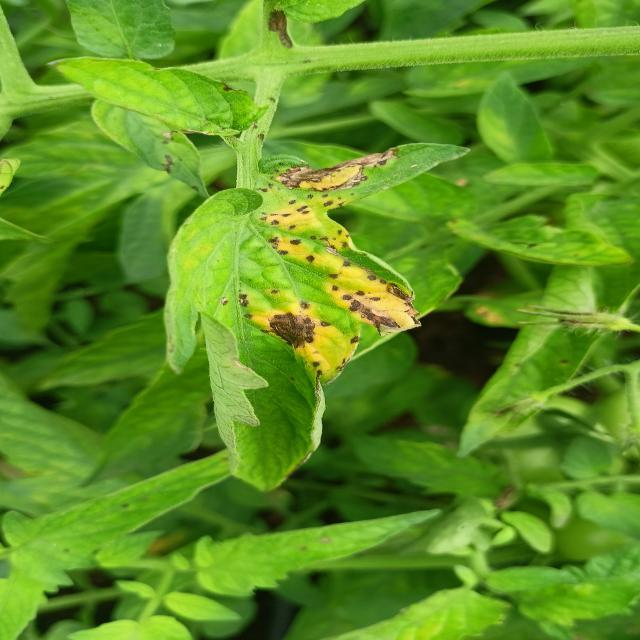Tomato mosaic virus leaf: (150, 181, 432, 494), (259, 139, 482, 210)
